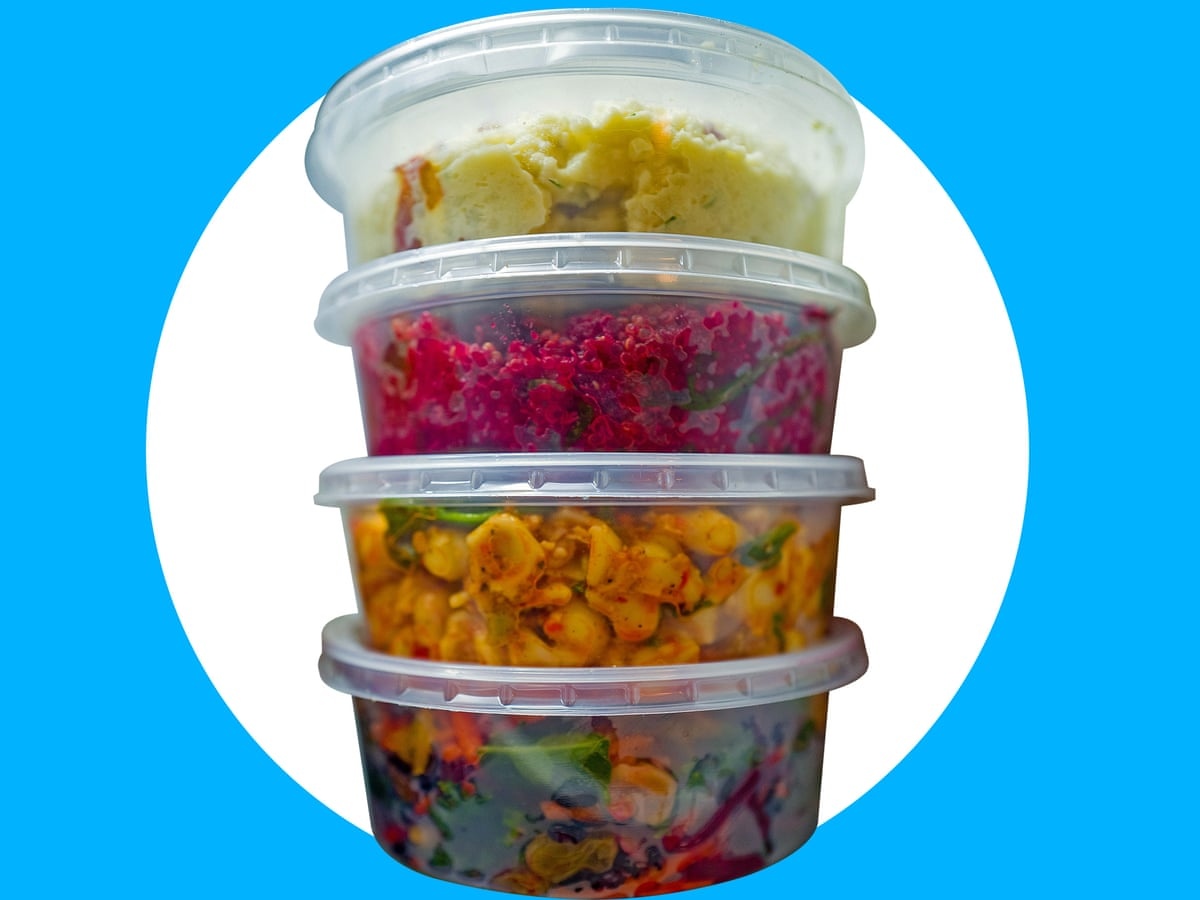PlasticBox: (298, 7, 880, 894)
